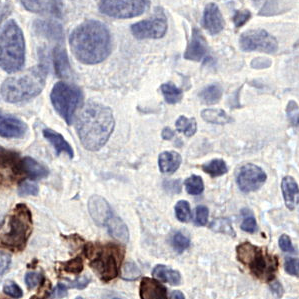Lymphocyte: (237, 239, 281, 282)
